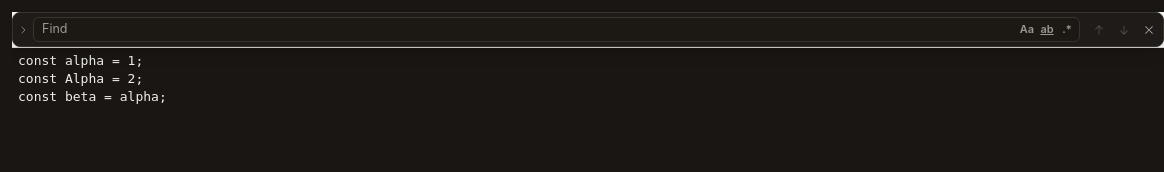
Scenario: lifecycle › tears the panel down when it closes
Check: the field labelled "Find" is shown, box x1=42 y1=20 x2=1016 y2=39
Click the button named "Close".
click(1148, 30)  # box x1=1138 y1=19 x2=1159 y2=40
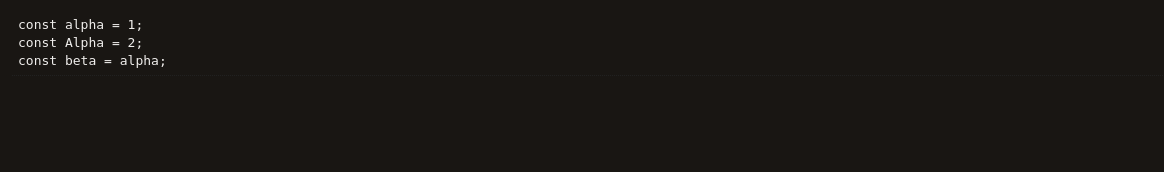
Check: the field labelled "Find" is gone
